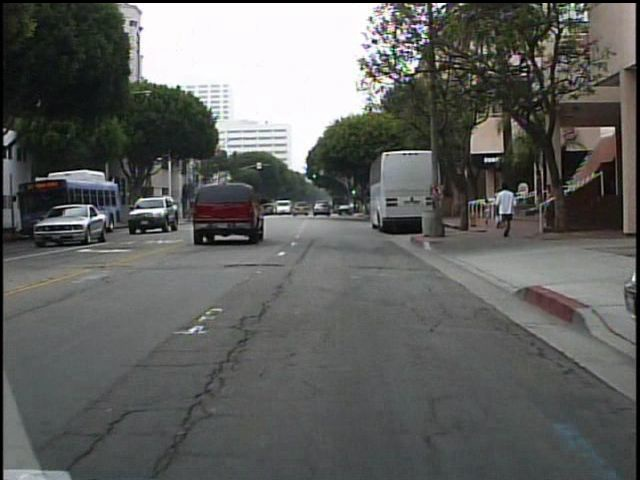person: (497, 178, 522, 239), (540, 179, 558, 234), (481, 195, 495, 229)
